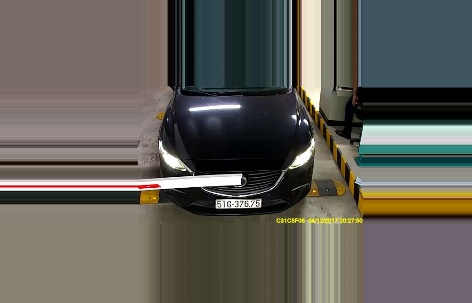plate: (215, 193, 263, 212)
